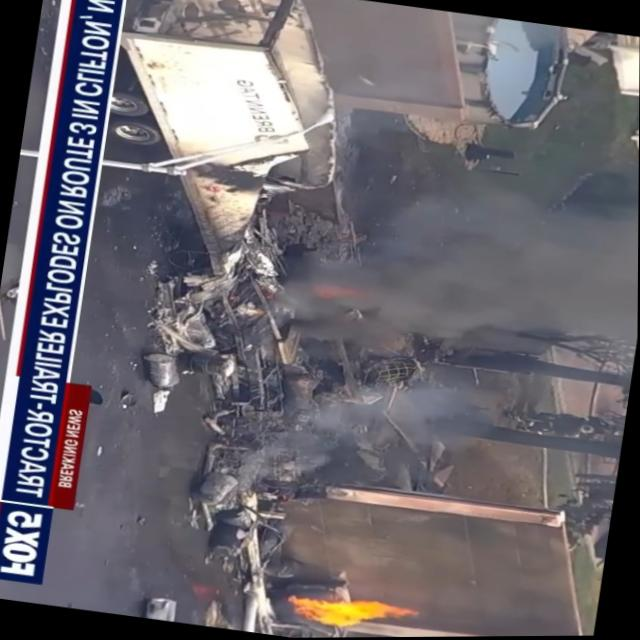Fire: (284, 585, 430, 638)
